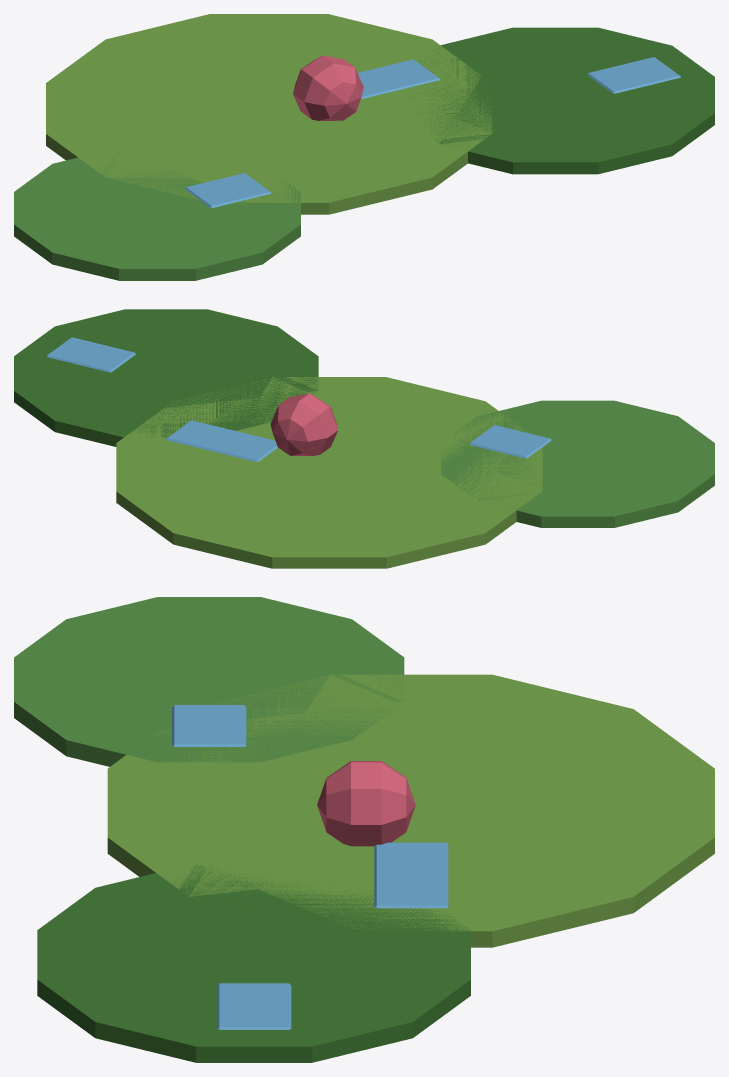
File: LilyPad.glb
3 views of the same model, one above another, from view 1: azimuth 30°, elevation 25°; view 2: azimuth 150°, elevation 25°; view 3: azimuth 270°, elevation 25° (orthographic). The views are drawn at different scales.
Parts seen in each view (by area): view 1: Body; view 2: Body; view 3: Body.
Part boxes in pixels (x1=…): Body: x1=14, y1=14, x2=714, y2=280; Body: x1=14, y1=309, x2=714, y2=568; Body: x1=14, y1=597, x2=714, y2=1062.
Bounding box in the file's own units: 4.74 × 0.4292 × 3.12.
